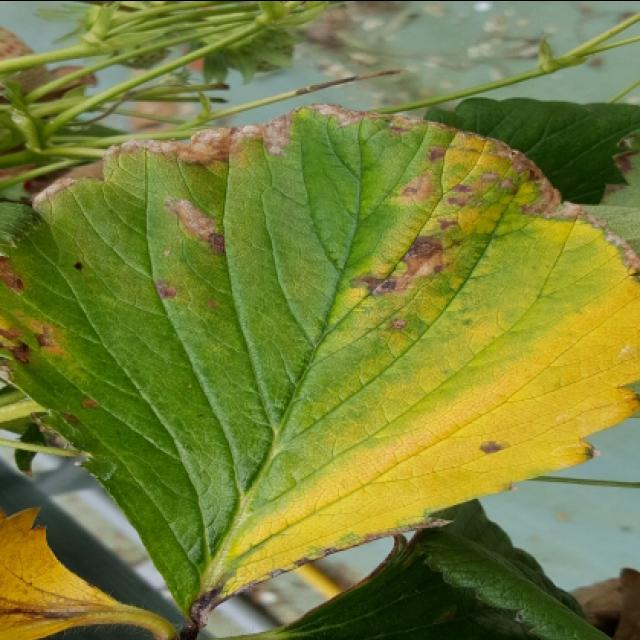Angular Leafspot: (0, 102, 638, 621)
